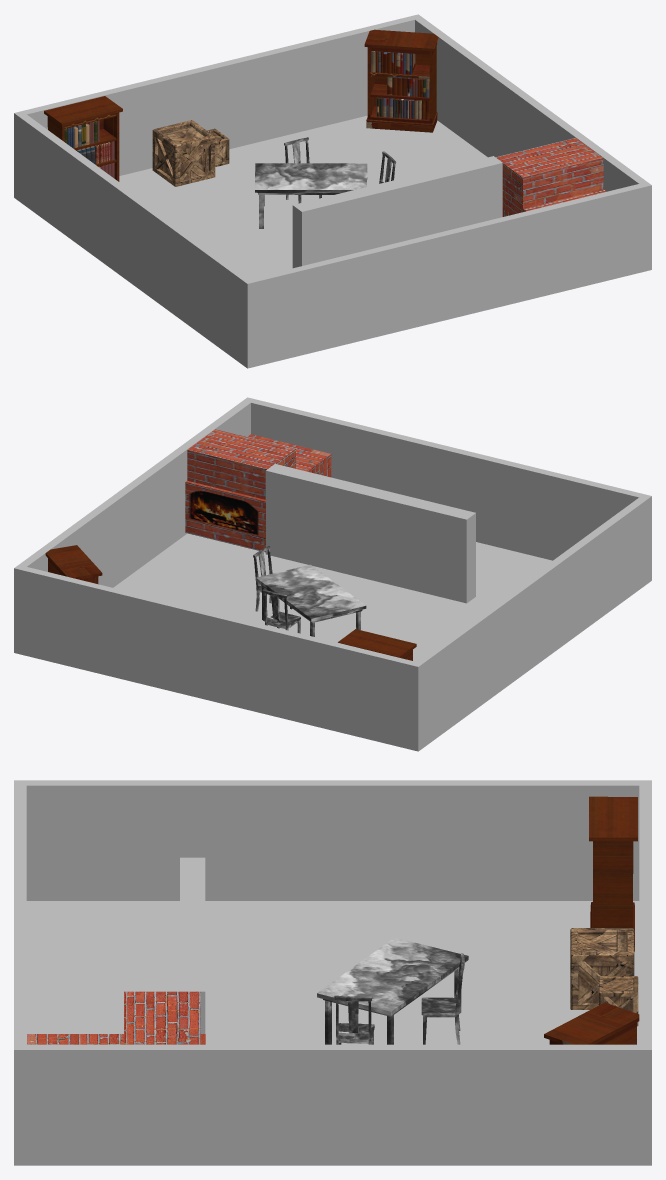
File: Interior.fbx
The picture shows the model from 3 angles, top to bottom: view 1: azimuth 30°, elevation 25°; view 2: azimuth 150°, elevation 25°; view 3: azimuth 270°, elevation 25°; orthographic projection. The views are drawn at different scales.
Visible parts, largest first — view 1: RoomInterior.001, RoomInterior, Splitter, Library_LOD0.001, Fireplace, Library_LOD0, Table, Crate, Crate.001; view 2: RoomInterior.001, Splitter, RoomInterior, Fireplace, Table, Library_LOD0.001, Library_LOD0, chair_01, chair_02; view 3: RoomInterior.001, RoomInterior, Table, Library_LOD0, Fireplace, Crate, Splitter, Library_LOD0.001, chair_02, Crate.001, chair_01.
Boxes of the visible parts, x1,y1,x2,y2 form: RoomInterior.001: [14, 14, 651, 368]; RoomInterior: [119, 115, 487, 278]; Splitter: [292, 156, 502, 268]; Library_LOD0.001: [364, 29, 438, 132]; Fireplace: [496, 138, 606, 216]; Library_LOD0: [44, 96, 122, 181]; Table: [255, 163, 367, 228]; Crate: [152, 120, 215, 186]; Crate.001: [207, 128, 229, 166]; RoomInterior.001: [14, 397, 651, 751]; Splitter: [265, 464, 475, 603]; RoomInterior: [113, 533, 552, 661]; Fireplace: [185, 429, 331, 552]; Table: [256, 564, 366, 636]; Library_LOD0.001: [45, 545, 102, 584]; Library_LOD0: [338, 629, 416, 660]; chair_01: [262, 589, 300, 633]; chair_02: [253, 546, 292, 611]; RoomInterior.001: [14, 780, 651, 1165]; RoomInterior: [26, 901, 639, 1044]; Table: [317, 937, 468, 1044]; Library_LOD0: [589, 796, 637, 951]; Fireplace: [27, 991, 205, 1044]; Crate: [570, 928, 634, 1009]; Splitter: [180, 857, 205, 991]; Library_LOD0.001: [544, 1002, 639, 1044]; chair_02: [334, 995, 374, 1044]; Crate.001: [599, 976, 638, 1026]; chair_01: [421, 953, 464, 1044].
Size of the model in its own units: 5000 by 1014 by 5000.
